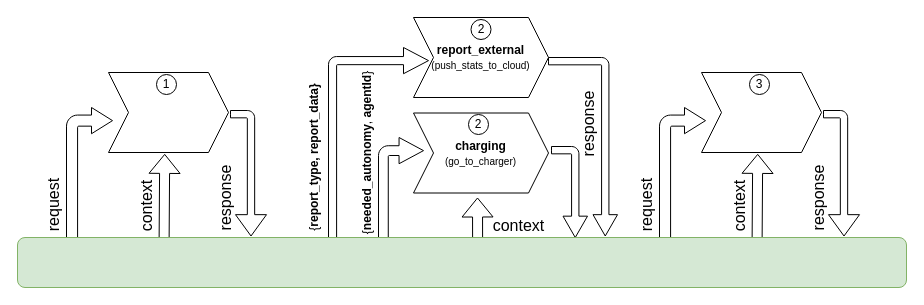
This 924x305 diagram has some shape labels left out. Here are the shapes that lost their labels. From the top down, the box of each, then its label:
(108, 72, 228, 152): plan_plowing (planning_paths)
(700, 72, 822, 152): format_assign (vendor_format)
(16, 236, 906, 288): helyOS Core
